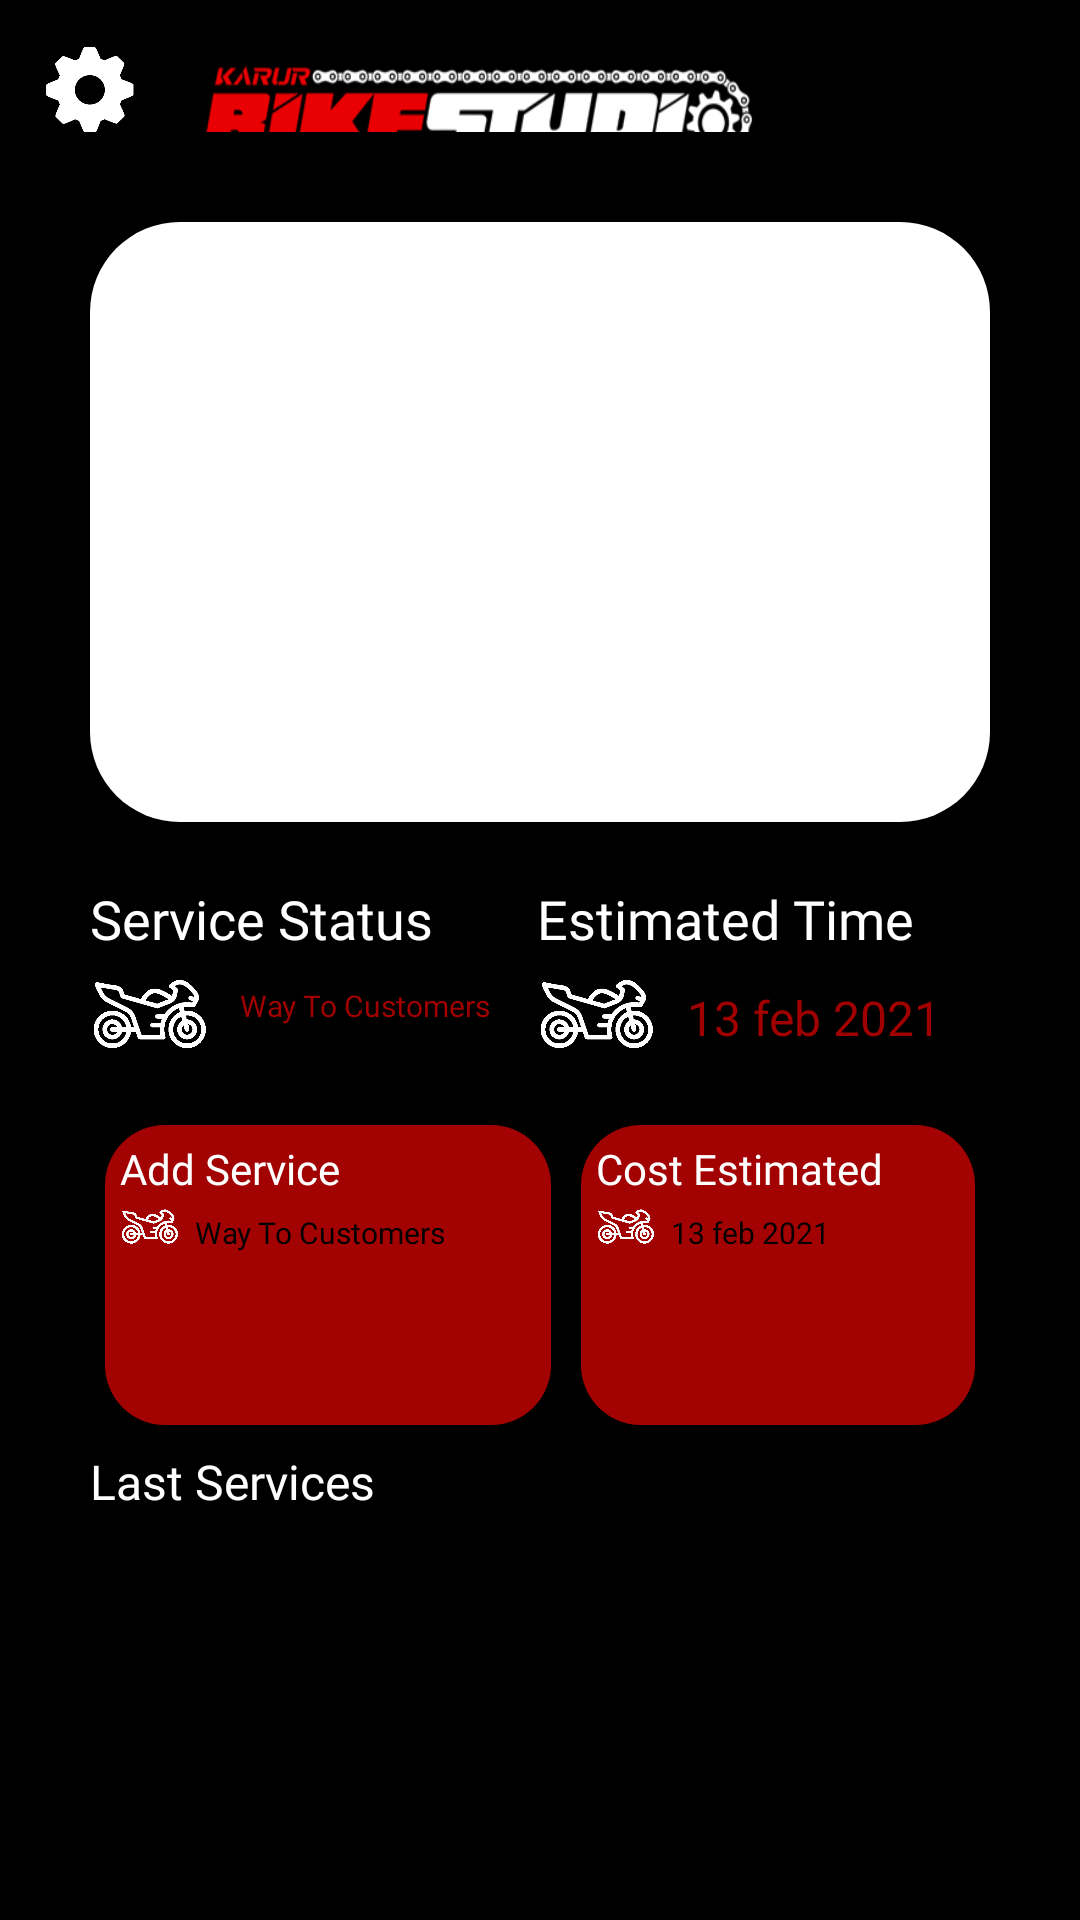

Named icons in this screenshot (1080 x 1920) and their centers, (x,y):
bike: (150,1014), (597,1014), (150,1226), (626,1226)
